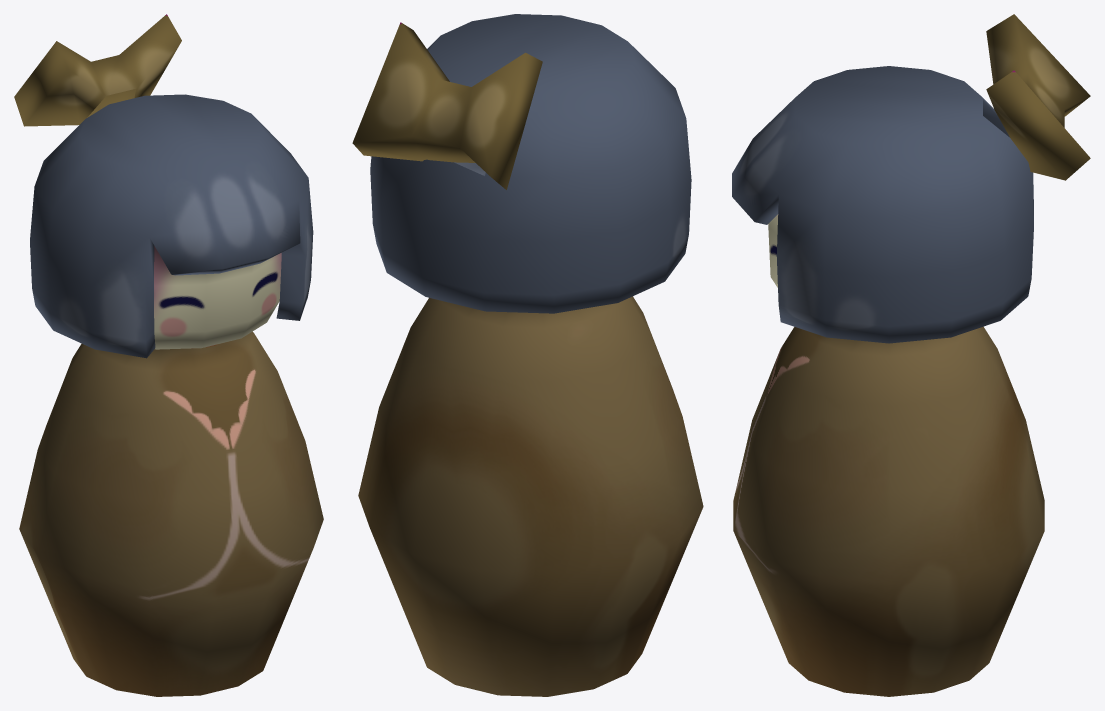
Rendered from Doll3.fbx.
The picture shows the model from 3 angles, left to right: view 1: azimuth 30°, elevation 25°; view 2: azimuth 150°, elevation 25°; view 3: azimuth 270°, elevation 25°; orthographic projection. The views are drawn at different scales.
Visible parts, largest first — view 1: Doll3; view 2: Doll3; view 3: Doll3.
Boxes of the visible parts, left/top/right/bottom form: Doll3: left=14, top=14, right=323, bottom=696; Doll3: left=352, top=14, right=703, bottom=696; Doll3: left=732, top=14, right=1090, bottom=696.
Bounding box in the file's own units: 31.5 × 66.52 × 35.39.
1 material, 1 textured.
